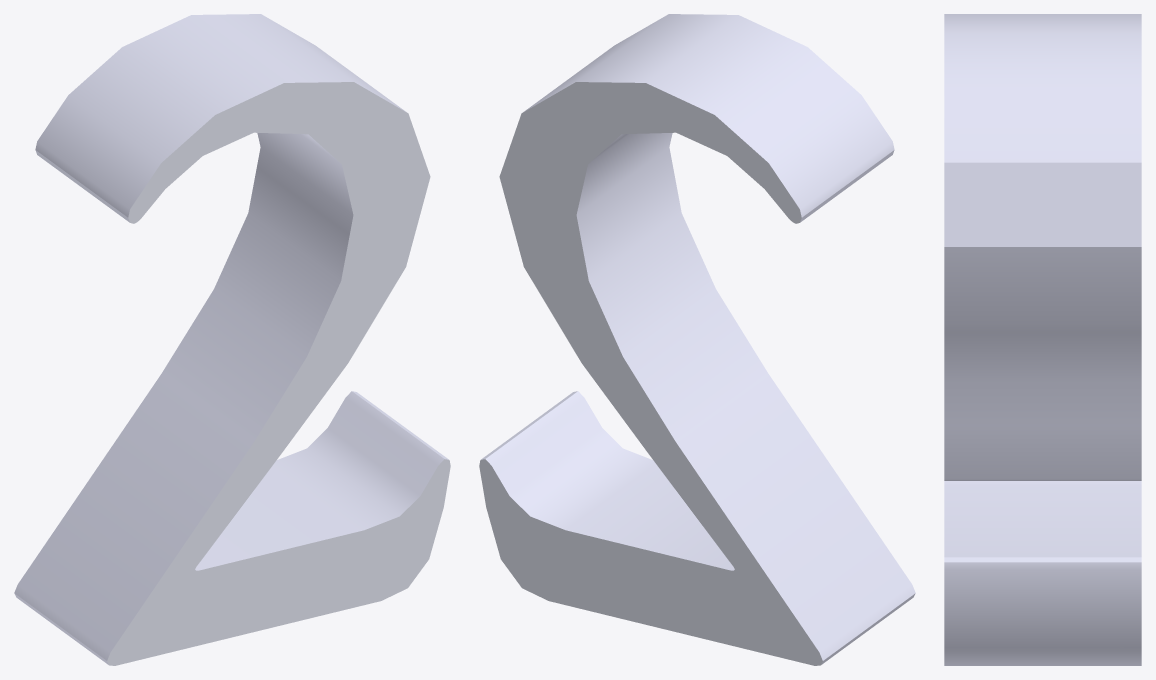
3 renders of one model, left to right at view 1: azimuth 30°, elevation 25°; view 2: azimuth 150°, elevation 25°; view 3: azimuth 270°, elevation 25°, orthographic. The views are drawn at different scales.
Visible parts, largest first — view 1: 2_Soul_Grey; view 2: 2_Soul_Grey; view 3: 2_Soul_Grey.
Boxes of the visible parts, left/top/right/bottom form: 2_Soul_Grey: left=14, top=14, right=450, bottom=665; 2_Soul_Grey: left=479, top=14, right=915, bottom=665; 2_Soul_Grey: left=944, top=14, right=1141, bottom=665.
Size of what is drawn, in the model's own units: 0.0961 by 0.1448 by 0.045.
Materials: 2 (2 with a texture image).
